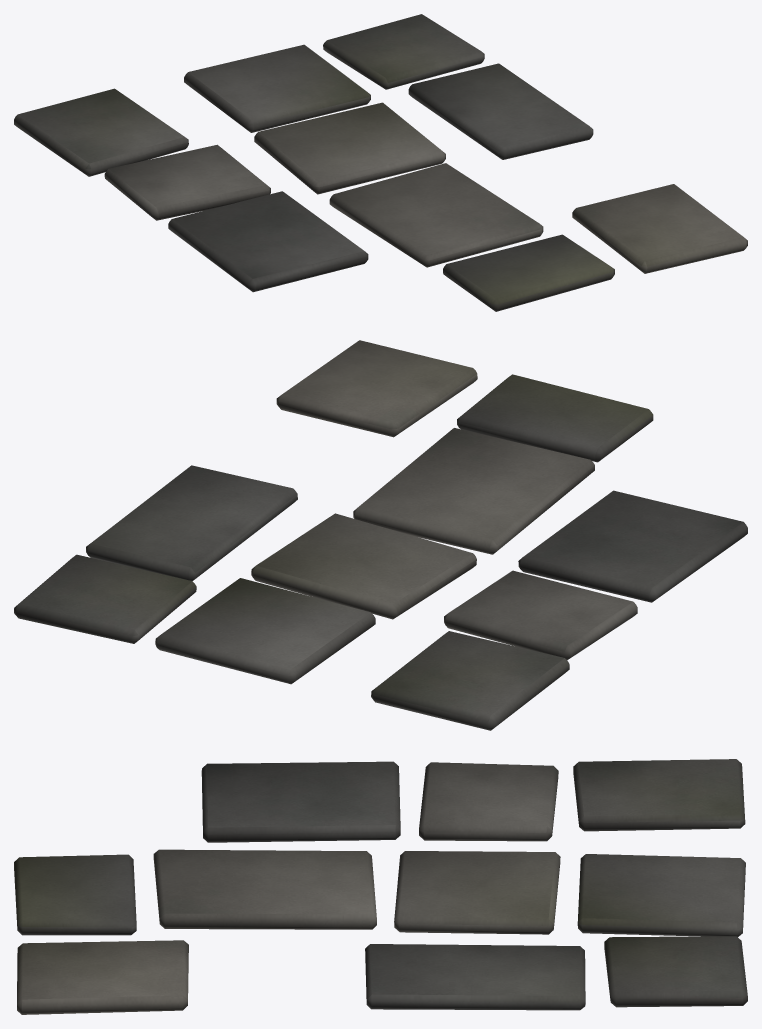
The model's file is paving_b.glb.
3 renders of one model, top to bottom at view 1: azimuth 30°, elevation 25°; view 2: azimuth 150°, elevation 25°; view 3: azimuth 270°, elevation 25°, orthographic. The views are drawn at different scales.
Visible parts, largest first — view 1: paving_b; view 2: paving_b; view 3: paving_b.
Boxes of the visible parts, x1,y1,x2,y2 form: paving_b: (14,14,747,311); paving_b: (14,340,747,730); paving_b: (14,759,747,1014).
Size of the model in its own units: 3.12 by 0.1242 by 3.97.
Materials: 1 (1 with a texture image).
